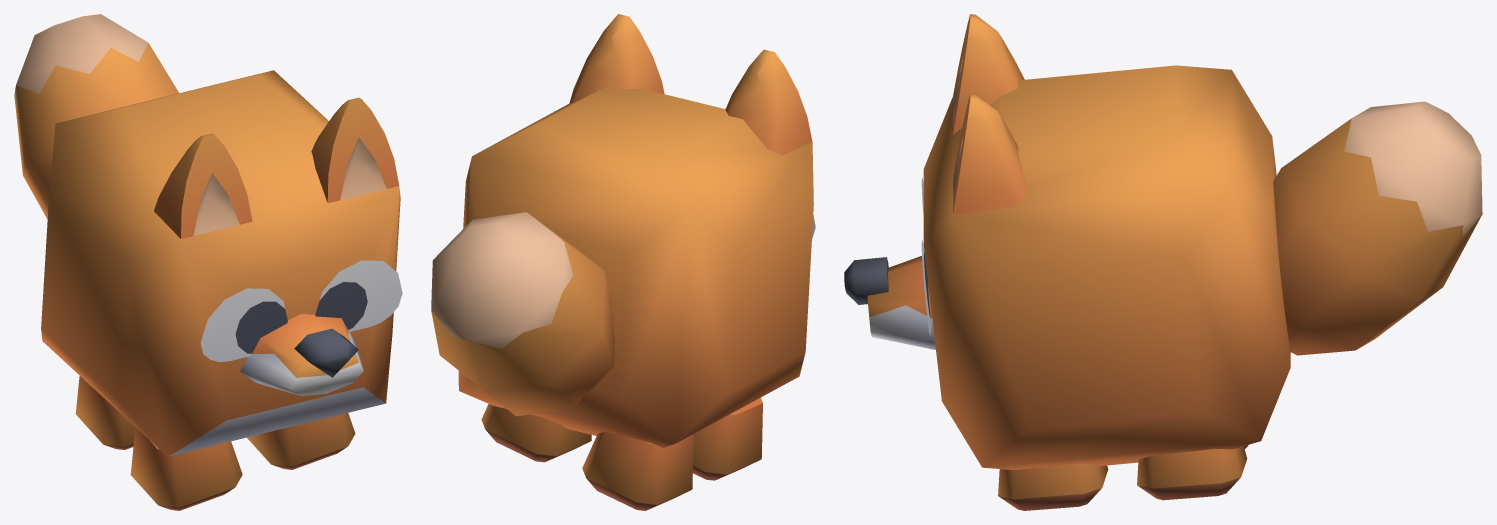
The model's file is Dog01.glb.
3 renders of one model, left to right at view 1: azimuth 30°, elevation 25°; view 2: azimuth 150°, elevation 25°; view 3: azimuth 270°, elevation 25°, orthographic. The views are drawn at different scales.
Visible parts, largest first — view 1: Dog; view 2: Dog; view 3: Dog.
Part boxes in pixels (<box>): Dog: <box>14,14,402,510</box>; Dog: <box>431,14,815,510</box>; Dog: <box>844,14,1482,510</box>.
Bounding box in the file's own units: 1.25 × 1.74 × 2.28.
Materials: 1 (1 with a texture image).
